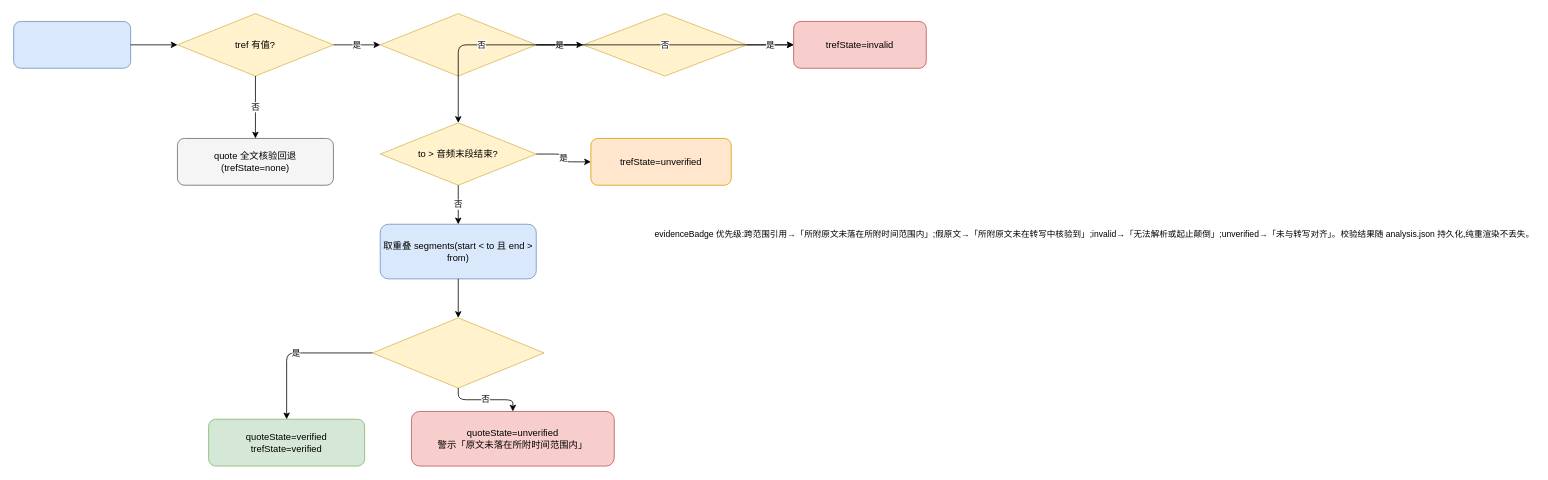
This 1548x480 diagram has some shape labels left out. The shapes that lost their labels are listed below. From the top down, each one's centre as x and y in pixels, then its label:
At (x=72, y=44): "行动项 {quote, tref}".
At (x=457, y=44): "格式 mm:ss-mm:ss?".
At (x=664, y=44): "from ≥ to?(起止颠倒)".
At (x=458, y=352): "quote ∈ 重叠片段文本?(去空白)".
